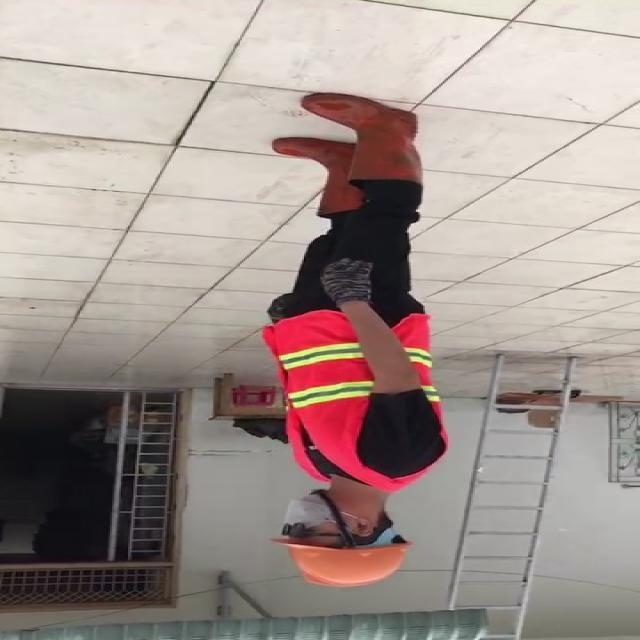gloves: (314, 255, 384, 305)
